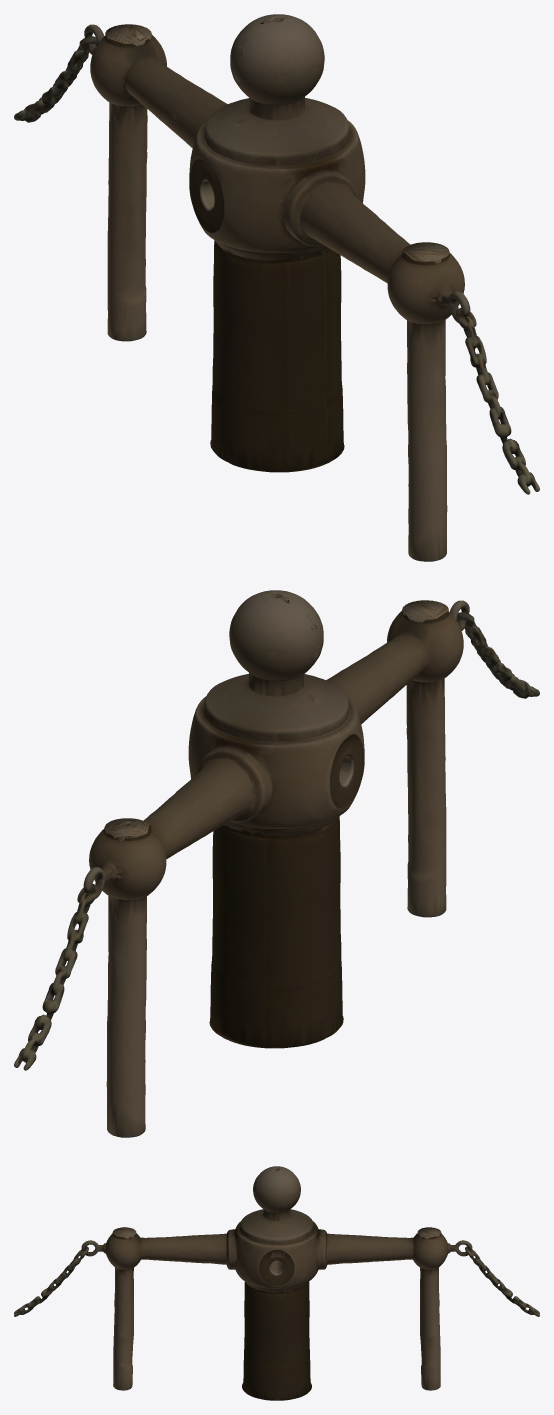
The picture shows the model from 3 angles, top to bottom: view 1: azimuth 30°, elevation 25°; view 2: azimuth 150°, elevation 25°; view 3: azimuth 270°, elevation 25°; orthographic projection. The views are drawn at different scales.
Visible parts, largest first — view 1: tripo_node_d688b978-2437-49b7-ad79-9fda03560351; view 2: tripo_node_d688b978-2437-49b7-ad79-9fda03560351; view 3: tripo_node_d688b978-2437-49b7-ad79-9fda03560351.
Part boxes in pixels (box(x1,y1,x2,y2)): tripo_node_d688b978-2437-49b7-ad79-9fda03560351: box(14, 14, 539, 561); tripo_node_d688b978-2437-49b7-ad79-9fda03560351: box(14, 590, 539, 1137); tripo_node_d688b978-2437-49b7-ad79-9fda03560351: box(14, 1166, 539, 1400).
Size of the model in its own units: 0.4357 by 1.23 by 2.7.
Materials: 2 (2 with a texture image).
